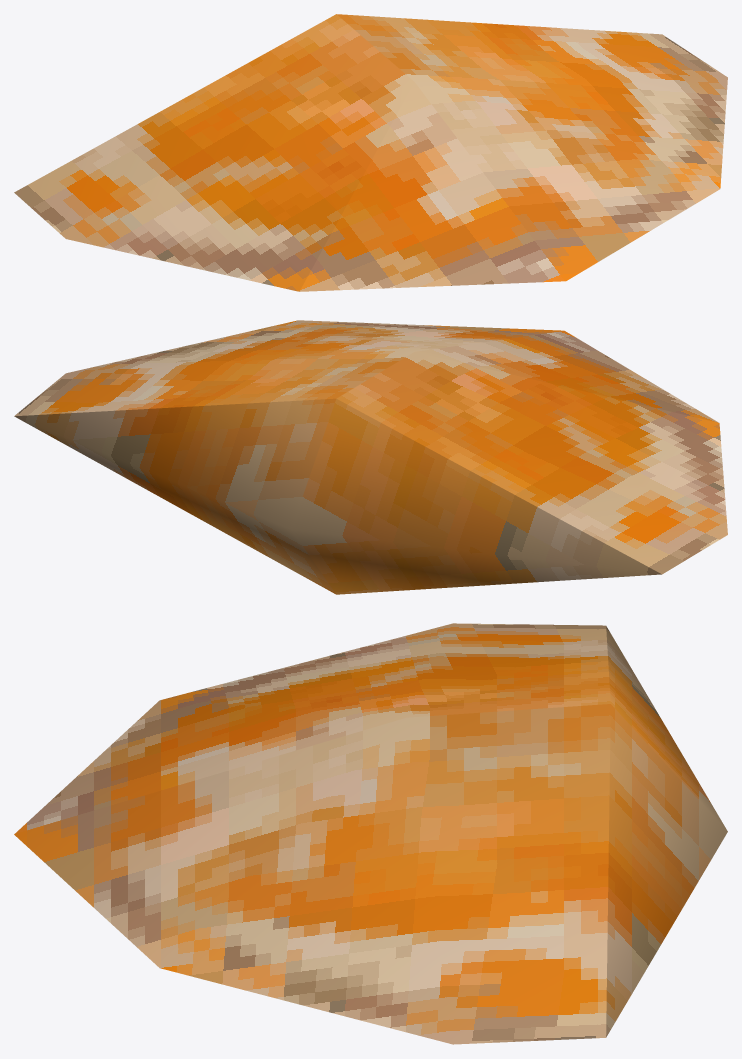
File: edb_filled_pastry_l2.fbx
The picture shows the model from 3 angles, top to bottom: view 1: azimuth 30°, elevation 25°; view 2: azimuth 150°, elevation 25°; view 3: azimuth 270°, elevation 25°; orthographic projection. The views are drawn at different scales.
Parts seen in each view (by area): view 1: mesh_node; view 2: mesh_node; view 3: mesh_node.
Part boxes in pixels (bbox=[...]): mesh_node: bbox=[14, 14, 727, 291]; mesh_node: bbox=[14, 320, 727, 594]; mesh_node: bbox=[14, 623, 727, 1044].
Size of the model in its own units: 0.1242 by 0.0352 by 0.089.
